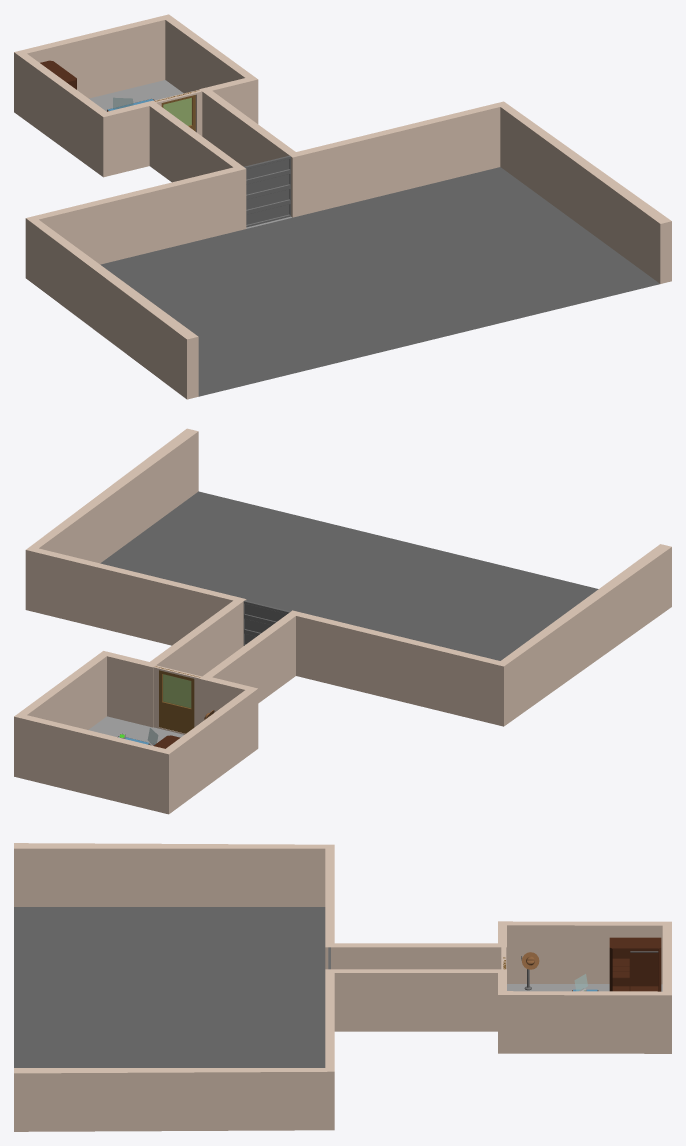
Rendered from сцена 1 офис.fbx.
3 views of the same model, one above another, from view 1: azimuth 30°, elevation 25°; view 2: azimuth 150°, elevation 25°; view 3: azimuth 270°, elevation 25° (orthographic). The views are drawn at different scales.
Parts seen in each view (by area): view 1: Стены, Полы, Дверь гаражная, Дверь офисная; view 2: Стены, Полы, Дверь офисная, Дверь гаражная, Дверной проем; view 3: Стены, Полы, Шкаф.
Boxes of the visible parts, left/top/right/bottom form: Стены: left=14, top=14, right=671, bottom=399; Полы: left=89, top=80, right=659, bottom=396; Дверь гаражная: left=244, top=155, right=290, bottom=227; Дверь офисная: left=155, top=90, right=199, bottom=131; Стены: left=14, top=428, right=671, bottom=814; Полы: left=88, top=491, right=598, bottom=743; Дверь офисная: left=155, top=666, right=200, bottom=733; Дверь гаражная: left=243, top=600, right=290, bottom=645; Дверной проем: left=153, top=665, right=201, bottom=734; Стены: left=14, top=843, right=671, bottom=1131; Полы: left=14, top=907, right=662, bottom=1067; Шкаф: left=609, top=937, right=661, bottom=991.
Bounding box in the file's own units: 2100 × 2535 × 250.
